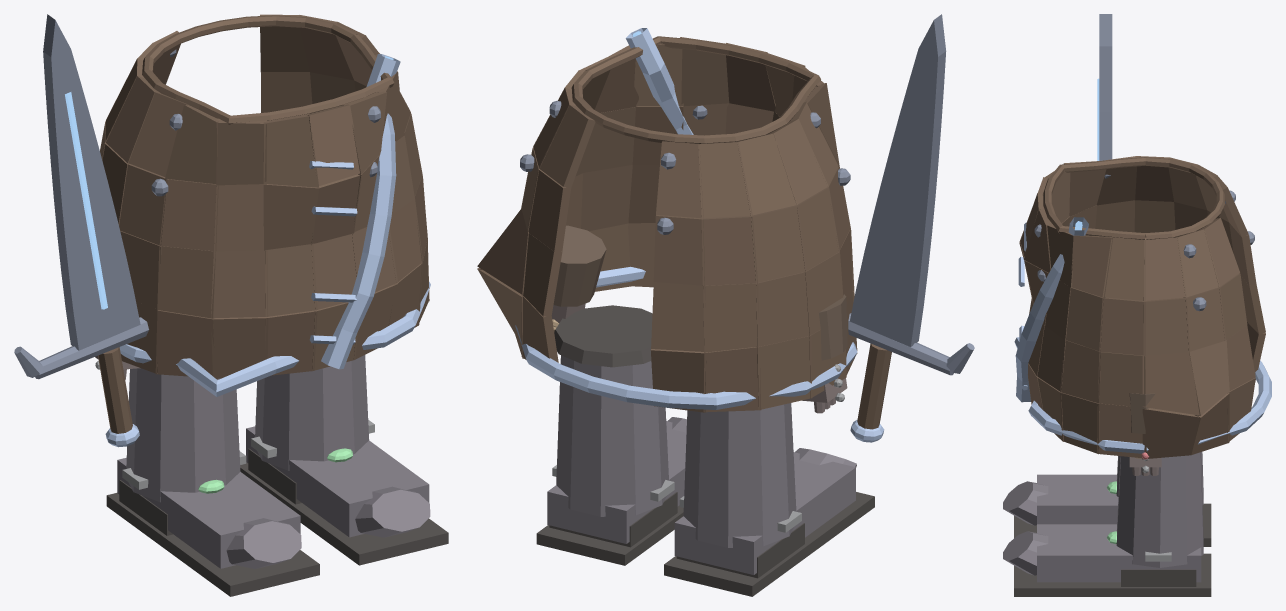
Rendered from duelist_kit.glb.
3 renders of one model, left to right at view 1: azimuth 30°, elevation 25°; view 2: azimuth 150°, elevation 25°; view 3: azimuth 270°, elevation 25°, orthographic. The views are drawn at different scales.
Visible parts, largest first — view 1: Armour_Jerkin_leather_duelist, Acc_BootR_cloth_duelist, Acc_BootL_cloth_duelist, Weapon_metal_duelist, Armour_Jerkin_trim_duelist, Acc_BootR_dark_duelist, Acc_BootL_dark_duelist, Weapon_leather_duelist, Weapon_glow_duelist, Armour_Jerkin_metal_duelist; view 2: Armour_Jerkin_leather_duelist, Acc_BootR_cloth_duelist, Weapon_metal_duelist, Acc_BootL_cloth_duelist, Acc_BootL_dark_duelist, Armour_Jerkin_trim_duelist, Acc_BootR_dark_duelist, Acc_GloveL_leather_duelist, Weapon_leather_duelist, Acc_GloveR_leather_duelist, Armour_Jerkin_metal_duelist; view 3: Armour_Jerkin_leather_duelist, Acc_BootL_cloth_duelist, Acc_BootR_cloth_duelist, Armour_Jerkin_trim_duelist, Acc_BootL_dark_duelist, Weapon_metal_duelist, Acc_BootR_dark_duelist, Acc_GloveL_leather_duelist, Armour_Jerkin_metal_duelist, Acc_GloveL_cloth_duelist.
Boxes of the visible parts, x1,y1,x2,y2 form: Armour_Jerkin_leather_duelist: (100,14,429,378); Acc_BootR_cloth_duelist: (117,368,301,568); Acc_BootL_cloth_duelist: (246,355,430,537); Weapon_metal_duelist: (14,14,148,379); Armour_Jerkin_trim_duelist: (119,54,430,396); Acc_BootR_dark_duelist: (106,480,319,596); Acc_BootL_dark_duelist: (240,448,448,565); Weapon_leather_duelist: (98,347,132,433); Weapon_glow_duelist: (65,92,107,309); Armour_Jerkin_metal_duelist: (151,49,380,196); Armour_Jerkin_leather_duelist: (477,36,857,412); Acc_BootR_cloth_duelist: (674,403,856,574); Weapon_metal_duelist: (848,14,974,375); Acc_BootL_cloth_duelist: (547,355,686,543); Acc_BootL_dark_duelist: (536,305,683,565); Armour_Jerkin_trim_duelist: (515,28,857,409); Acc_BootR_dark_duelist: (664,492,874,596); Acc_GloveL_leather_duelist: (553,225,606,306); Weapon_leather_duelist: (857,343,891,429); Acc_GloveR_leather_duelist: (819,294,847,360); Armour_Jerkin_metal_duelist: (520,101,850,234); Armour_Jerkin_leather_duelist: (1019,156,1265,459); Acc_BootL_cloth_duelist: (1003,452,1203,582); Acc_BootR_cloth_duelist: (1003,452,1203,525); Armour_Jerkin_trim_duelist: (1014,217,1271,453); Acc_BootL_dark_duelist: (1014,553,1211,596); Weapon_metal_duelist: (1099,14,1112,160); Acc_BootR_dark_duelist: (1014,503,1211,546); Acc_GloveL_leather_duelist: (1129,393,1155,433); Armour_Jerkin_metal_duelist: (1034,174,1254,311); Acc_GloveL_cloth_duelist: (1129,457,1161,475).
Bounding box in the file's own units: 1.18 × 1.44 × 0.7777.
